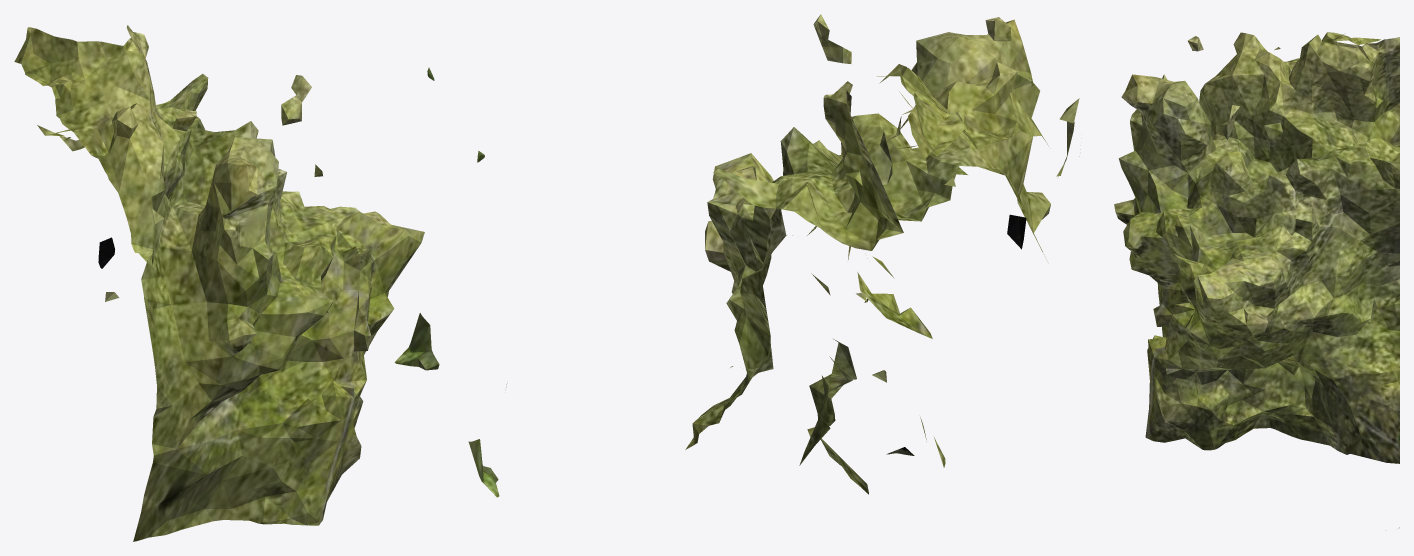
The picture shows the model from 3 angles, left to right: view 1: azimuth 30°, elevation 25°; view 2: azimuth 150°, elevation 25°; view 3: azimuth 270°, elevation 25°; orthographic projection. The views are drawn at different scales.
Size of the model in its own units: 5.9 by 5.9 by 4.2.
4 materials, 4 textured.
